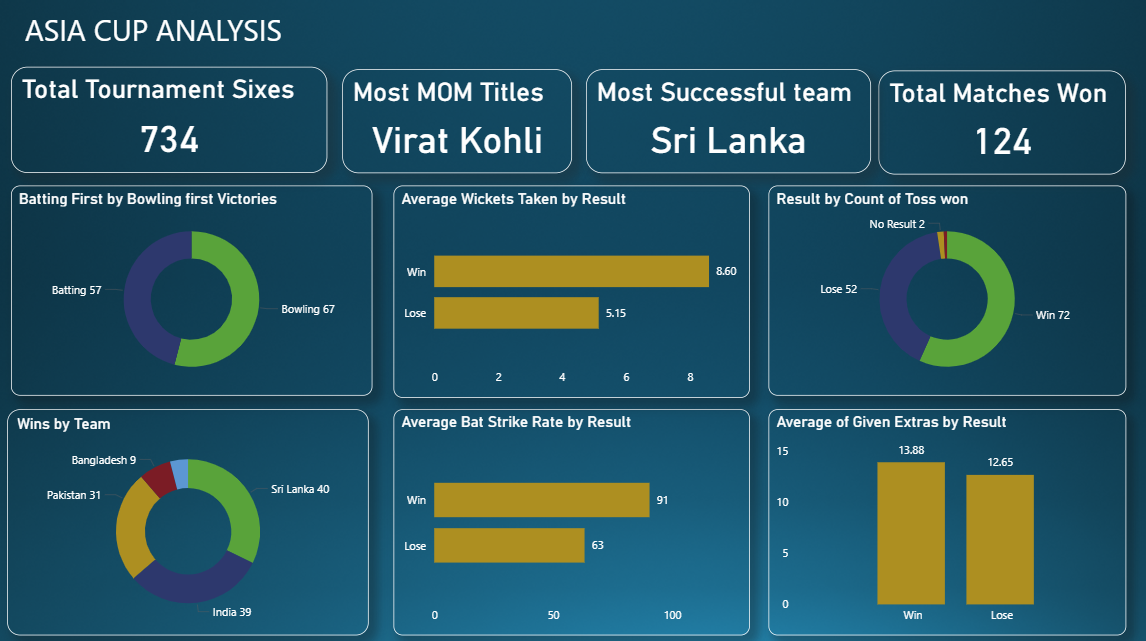

The page's visual inventory and layout, read from the dashboard file:
{"tool":"powerbi","page":{"name":"Overview","canvas":[1280,720],"ordinal":0},"visuals":[{"type":"textbox","box":[12.4,13.8,445.6,70.1],"z":0},{"type":"card","title":"Total Matches Won","fields":{"Values":["asiacup.Total wins"]},"box":[970.9,85.3,272.3,114.1],"z":1000},{"type":"card","title":"Most Successful team","fields":{"Values":["Min(asiacup.Team)"]},"box":[649.1,83.9,313.5,114.1],"z":2000},{"type":"card","title":"Most MOM Titles","fields":{"Values":["Min(asiacup.Player Of The Match)"]},"box":[380.9,83.9,253,114.1],"z":3000},{"type":"donutChart","title":"Wins by Team","fields":{"Y":["asiacup.Total wins"],"Category":["asiacup.Team"]},"box":[12.4,457.9,397.4,248.9],"z":4000},{"type":"donutChart","title":"Batting First by Bowling first Victories","fields":{"Category":["asiacup.Selection"],"Y":["asiacup.Total wins"]},"box":[16.5,211.8,397.4,231],"z":5000},{"type":"donutChart","title":"Result by Count of Toss won","fields":{"Category":["asiacup.Result"],"Y":["asiacup.Toss_win_count"]},"box":[849.9,211.8,393.3,231],"z":6000},{"type":"card","title":"Total Tournament Sixes","fields":{"Values":["Sum(asiacup.Sixes)"]},"box":[16.5,81.1,347.9,116.9],"z":7000},{"type":"clusteredBarChart","title":"Average Bat Strike Rate by Result","fields":{"Y":["Avg(asiacup.Avg Bat Strike Rate)"],"Category":["asiacup.Result"]},"box":[437.3,457.9,391.9,248.9],"z":8000},{"type":"clusteredBarChart","title":"Average Wickets Taken by Result","fields":{"Y":["Avg(asiacup.Wicket Taken)"],"Category":["asiacup.Result"]},"box":[437.3,211.8,391.9,233.8],"z":9000},{"type":"columnChart","fields":{"Category":["asiacup.Result"],"Y":["Avg(asiacup.Given Extras)"]},"box":[849.9,457.9,393.3,248.9],"z":10000}]}

Visuals, with their boxes in screenshot pixels (x1, y1, x2, y2), scaled from the page's 1280x720 canvas onto the 1146x641 screenshot:
textbox: pyautogui.locateOnScreen(11, 12, 410, 75)
"Total Matches Won" card: pyautogui.locateOnScreen(869, 76, 1113, 178)
"Most Successful team" card: pyautogui.locateOnScreen(581, 75, 862, 176)
"Most MOM Titles" card: pyautogui.locateOnScreen(341, 75, 568, 176)
"Wins by Team" donutChart: pyautogui.locateOnScreen(11, 408, 367, 629)
"Batting First by Bowling first Victories" donutChart: pyautogui.locateOnScreen(15, 189, 371, 394)
"Result by Count of Toss won" donutChart: pyautogui.locateOnScreen(761, 189, 1113, 394)
"Total Tournament Sixes" card: pyautogui.locateOnScreen(15, 72, 326, 176)
"Average Bat Strike Rate by Result" clusteredBarChart: pyautogui.locateOnScreen(392, 408, 742, 629)
"Average Wickets Taken by Result" clusteredBarChart: pyautogui.locateOnScreen(392, 189, 742, 397)
columnChart - asiacup.Result x Avg(asiacup.Given Extras): pyautogui.locateOnScreen(761, 408, 1113, 629)
